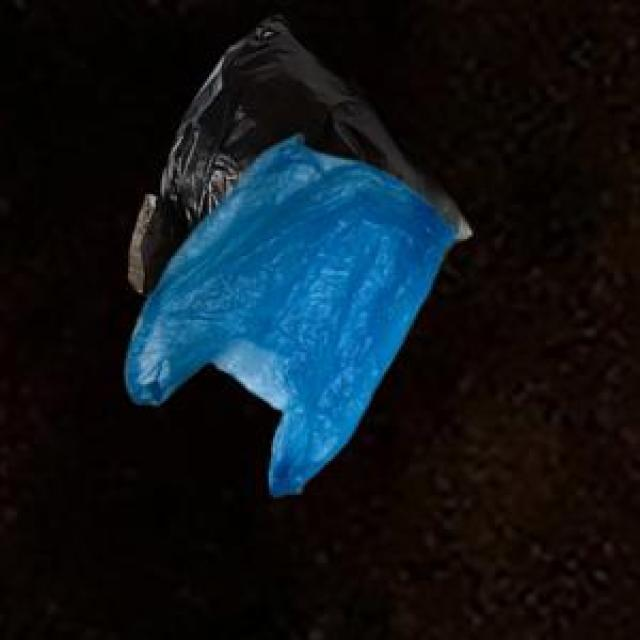miscellaneous trash: (124, 11, 467, 292)
